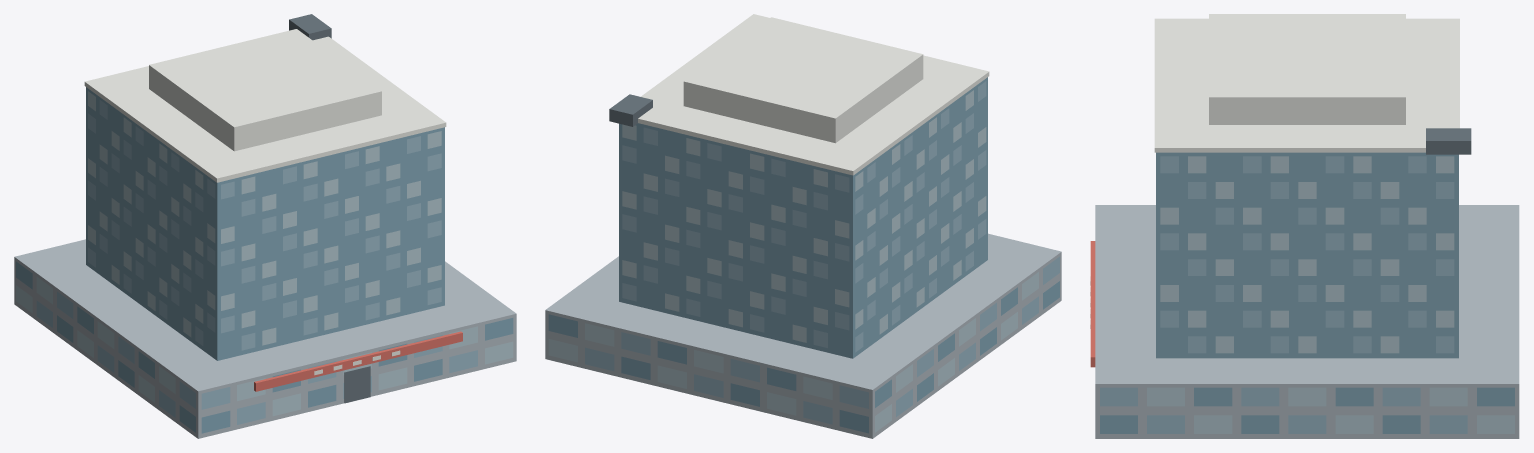
File: sky-building-6.glb
3 views of the same model, side by side, from view 1: azimuth 30°, elevation 25°; view 2: azimuth 150°, elevation 25°; view 3: azimuth 270°, elevation 25° (orthographic). The views are drawn at different scales.
Bounding box in the file's own units: 14.02 × 10.7 × 14.18.
